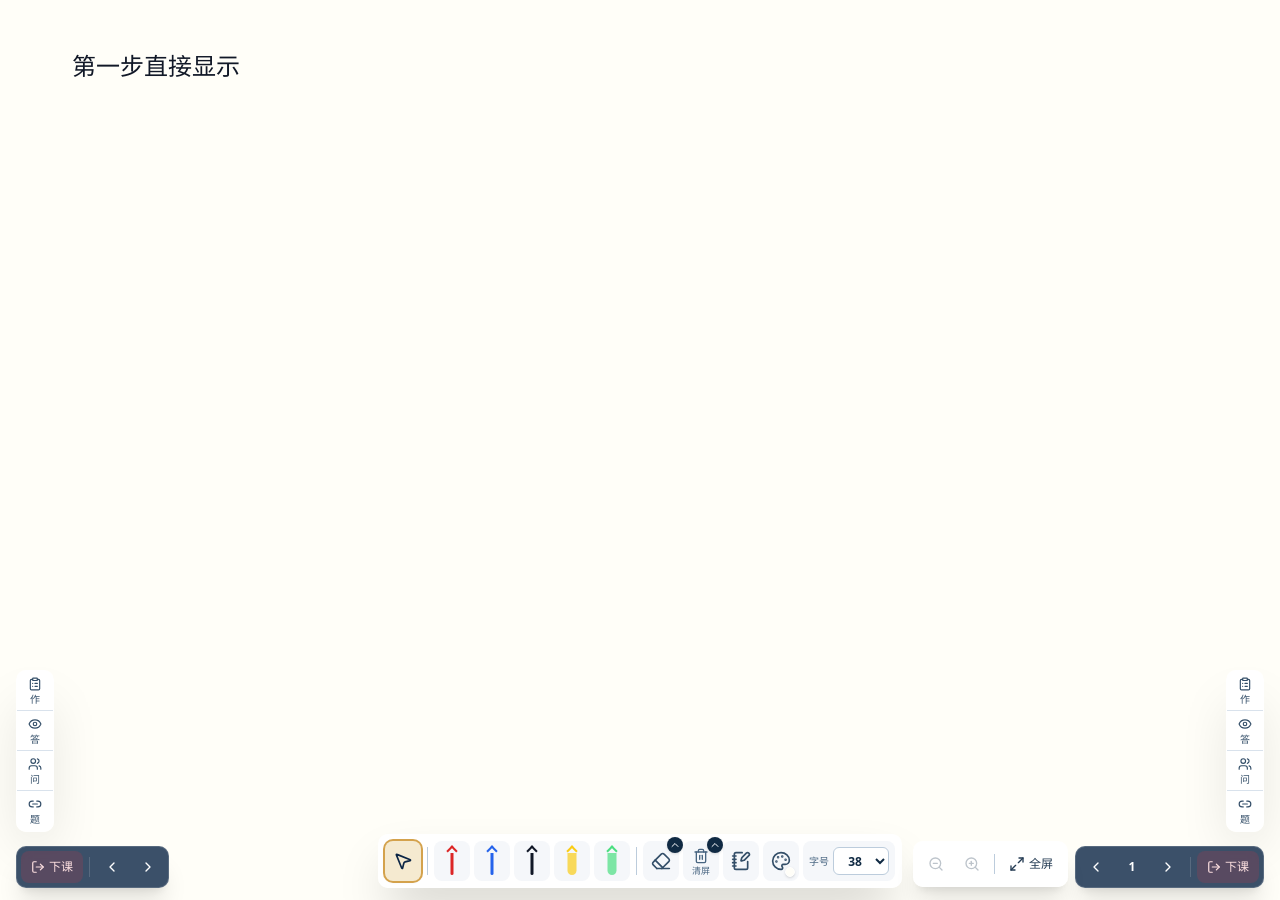
Test case: PresentationMode › shows the first animation step immediately when an animated page would otherwise be blank
Expected: the text "第一步直接显示" is shown, x1=72 y1=49 x2=240 y2=82
Expected: the text "第二步再显示" is not shown
Step 1. Click the button named "左侧下一页" → click(148, 867), box x1=132 y1=851 x2=164 y2=883
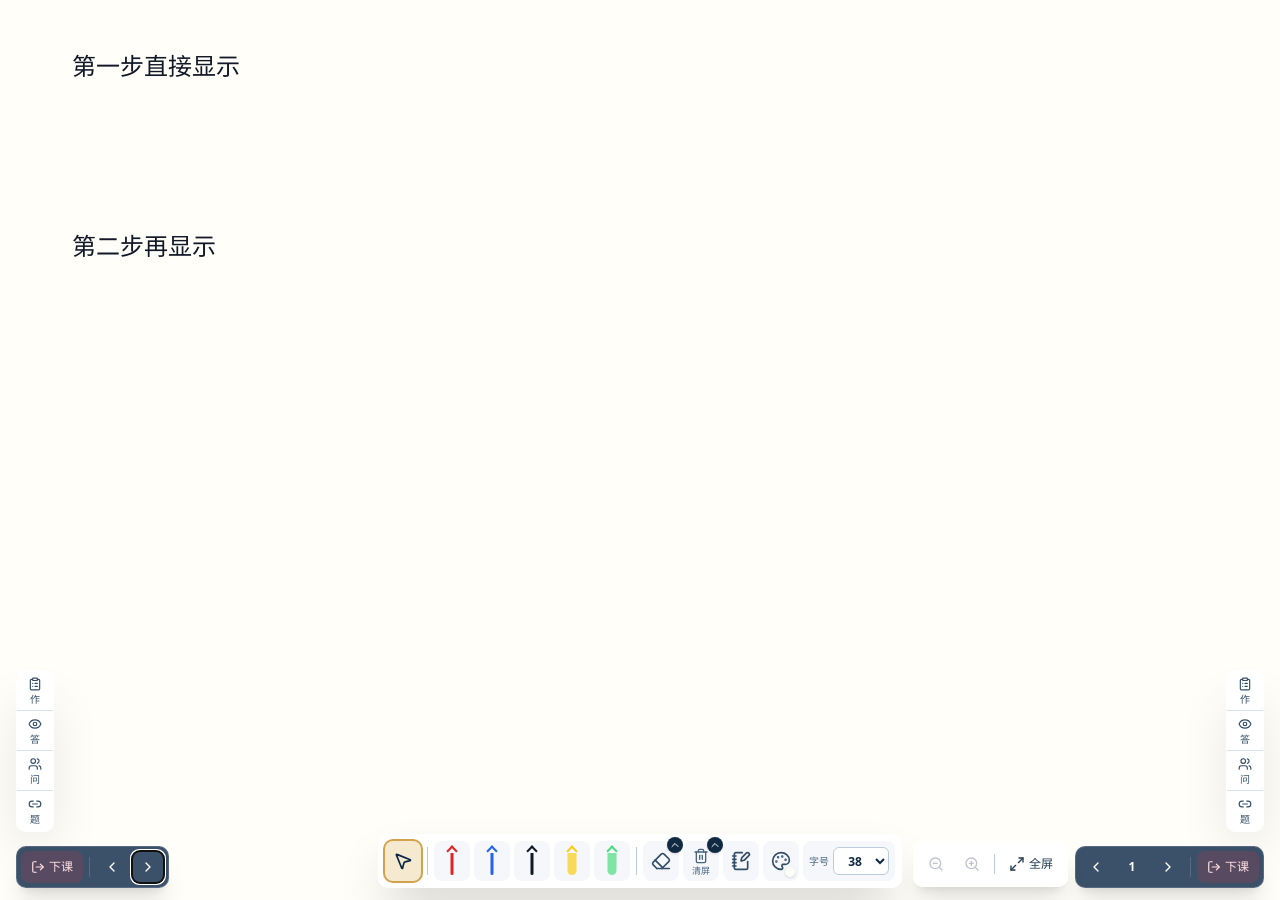
Now the text "第二步再显示" is shown, box x1=72 y1=229 x2=216 y2=262
Step 2. Click the button named "左侧下一页" → click(148, 867), box x1=132 y1=851 x2=164 y2=883
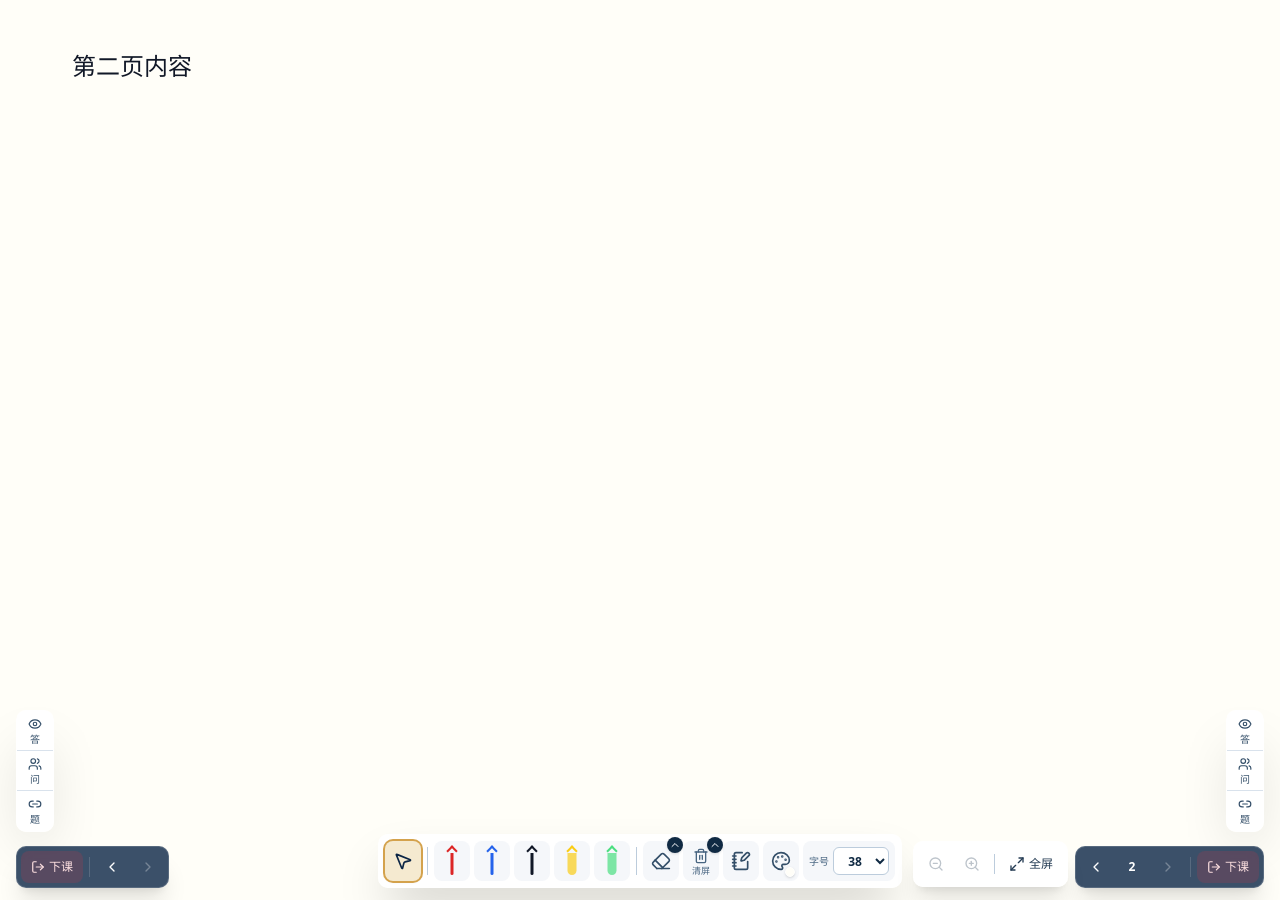
Now the text "第二页内容" is shown, box x1=72 y1=49 x2=192 y2=82
